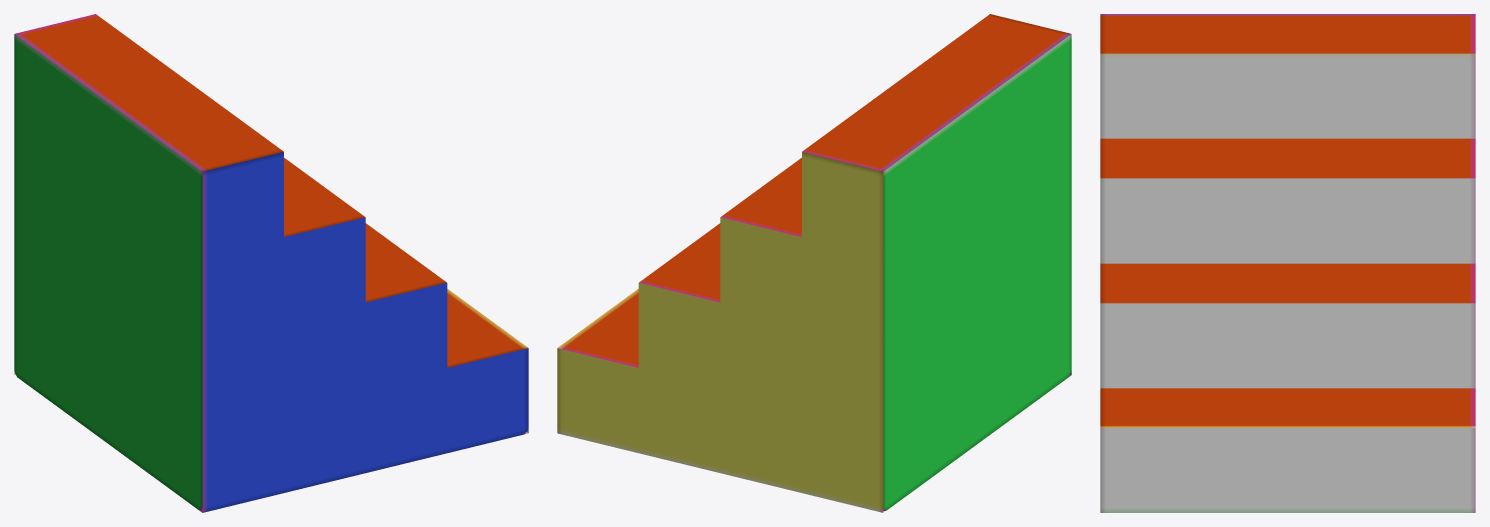
Rendered from Stairs.obj.
The picture shows the model from 3 angles, left to right: view 1: azimuth 30°, elevation 25°; view 2: azimuth 150°, elevation 25°; view 3: azimuth 270°, elevation 25°; orthographic projection.
Parts seen in each view (by area): view 1: cube; view 2: cube; view 3: cube.
Boxes of the visible parts, bbox=[...] form: cube: bbox=[14, 14, 528, 512]; cube: bbox=[557, 14, 1071, 512]; cube: bbox=[1100, 14, 1475, 512].
Bounding box in the file's own units: 2 × 2 × 2.
1 material, 1 textured.
